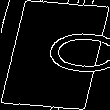O_W: (5, 30, 105, 80)
